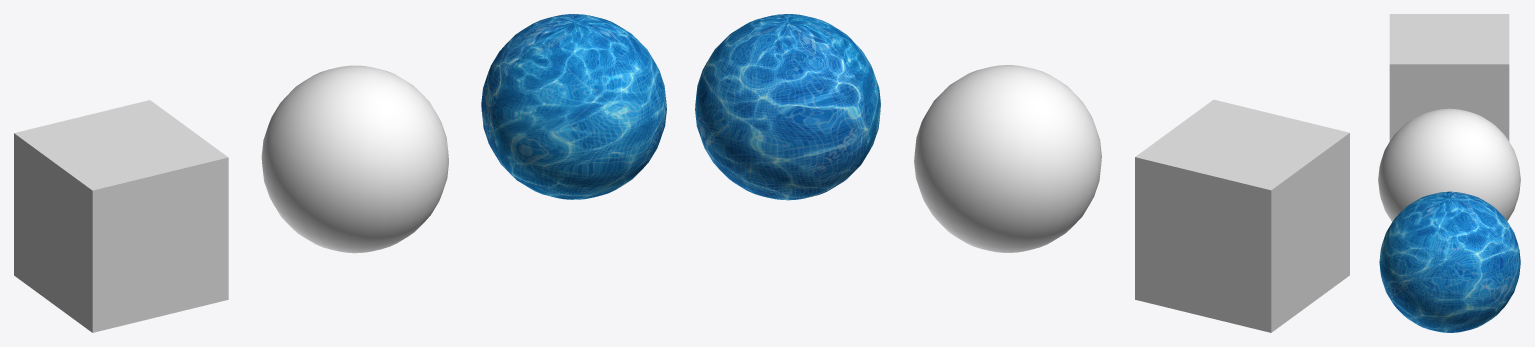
The model's file is 박혜윤_애니메이션.glb.
3 renders of one model, left to right at view 1: azimuth 30°, elevation 25°; view 2: azimuth 150°, elevation 25°; view 3: azimuth 270°, elevation 25°, orthographic. The views are drawn at different scales.
Parts seen in each view (by area): view 1: Cube, Sphere, Sphere.003; view 2: Cube, Sphere, Sphere.003; view 3: Sphere.003, Cube, Sphere.
Boxes of the visible parts, left/top/right/bottom form: Cube: left=14, top=100, right=228, bottom=332; Sphere: left=261, top=65, right=448, bottom=253; Sphere.003: left=481, top=14, right=666, bottom=199; Cube: left=1135, top=99, right=1349, bottom=332; Sphere: left=914, top=65, right=1101, bottom=252; Sphere.003: left=695, top=14, right=880, bottom=200; Sphere.003: left=1379, top=191, right=1520, bottom=332; Cube: left=1389, top=14, right=1509, bottom=141; Sphere: left=1378, top=108, right=1520, bottom=221.
Size of the model in its own units: 10.42 by 2.83 by 2.82.
Materials: 2 (1 with a texture image).
